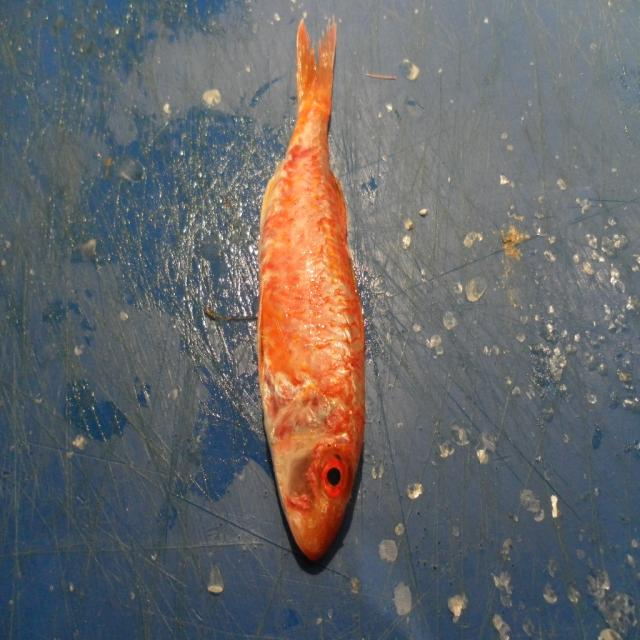Red-Mullet-kefal-: (256, 19, 366, 577)
